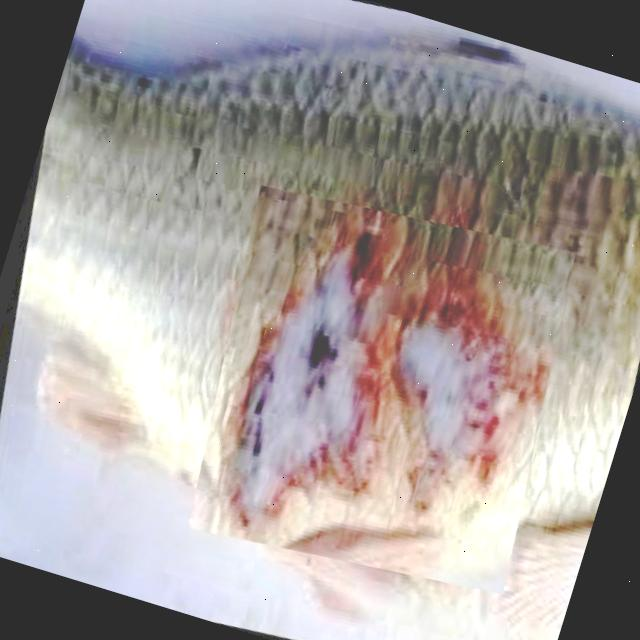Aeromonas Septicemia: (19, 47, 640, 626), (21, 49, 640, 626), (24, 49, 640, 627)
